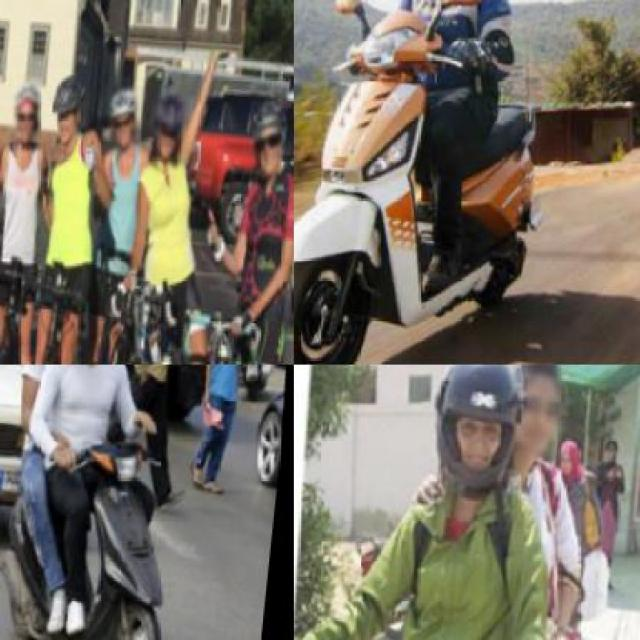With Helmet: (418, 364, 537, 494), (251, 64, 292, 178), (45, 59, 98, 141), (155, 73, 200, 169), (105, 74, 152, 149), (12, 65, 52, 138), (0, 82, 11, 165)
Without Helmet: (496, 364, 572, 456)
